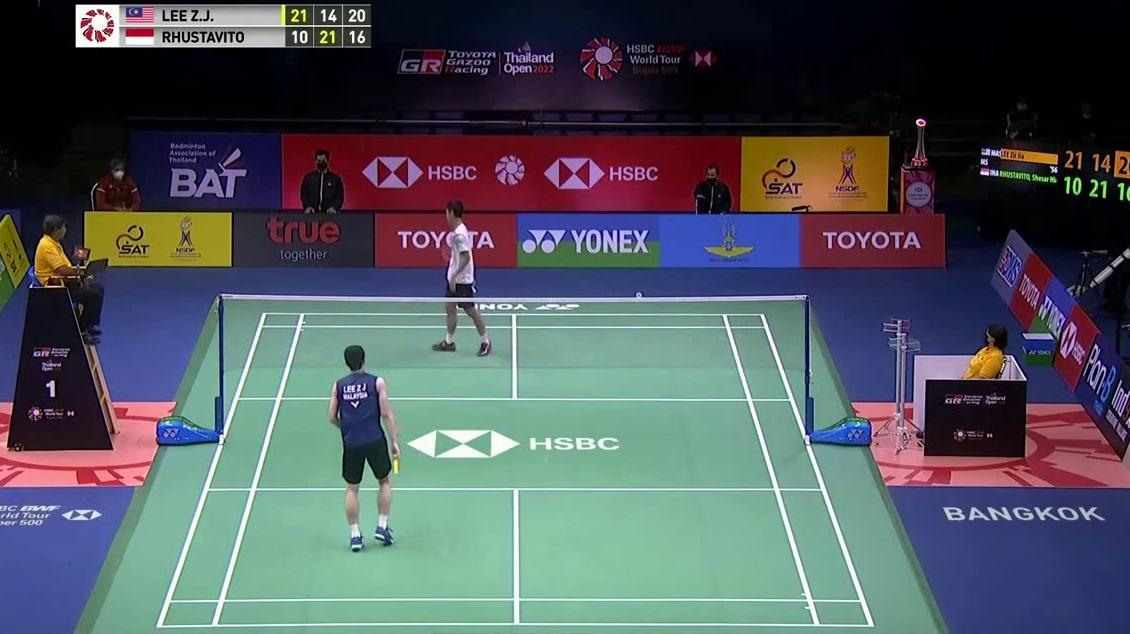racket: (388, 406, 405, 476), (438, 240, 456, 263)
shuttle: (635, 290, 643, 300)
